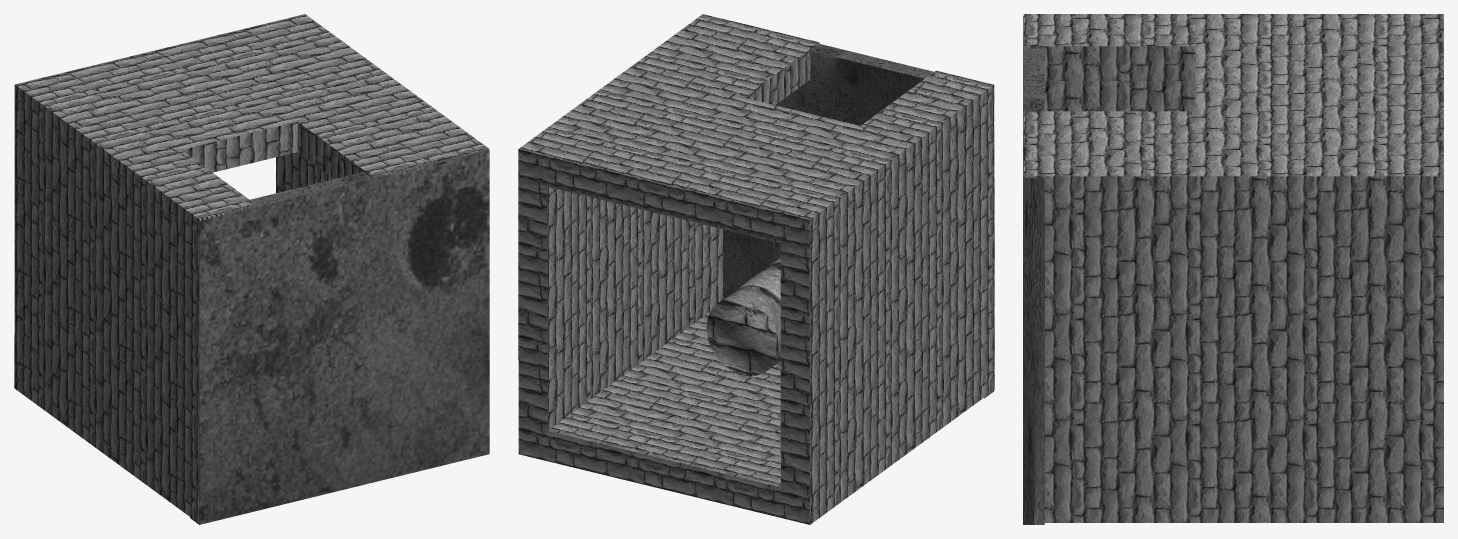
The model's file is building.dae.
The picture shows the model from 3 angles, left to right: view 1: azimuth 30°, elevation 25°; view 2: azimuth 150°, elevation 25°; view 3: azimuth 270°, elevation 25°; orthographic projection. The views are drawn at different scales.
Visible parts, largest first — view 1: Plane.002, Cube; view 2: Plane.002, Cube, Cylinder; view 3: Plane.002, Cube.
Part boxes in pixels (x1=…): Plane.002: x1=14, y1=14, x2=489, y2=522; Cube: x1=190, y1=150, x2=489, y2=524; Plane.002: x1=518, y1=14, x2=994, y2=524; Cube: x1=723, y1=44, x2=994, y2=398; Cylinder: x1=706, y1=257, x2=780, y2=375; Plane.002: x1=1023, y1=14, x2=1443, y2=522; Cube: x1=1023, y1=16, x2=1044, y2=524.
Bounding box in the file's own units: 8.05 × 8.84 × 8.09.
